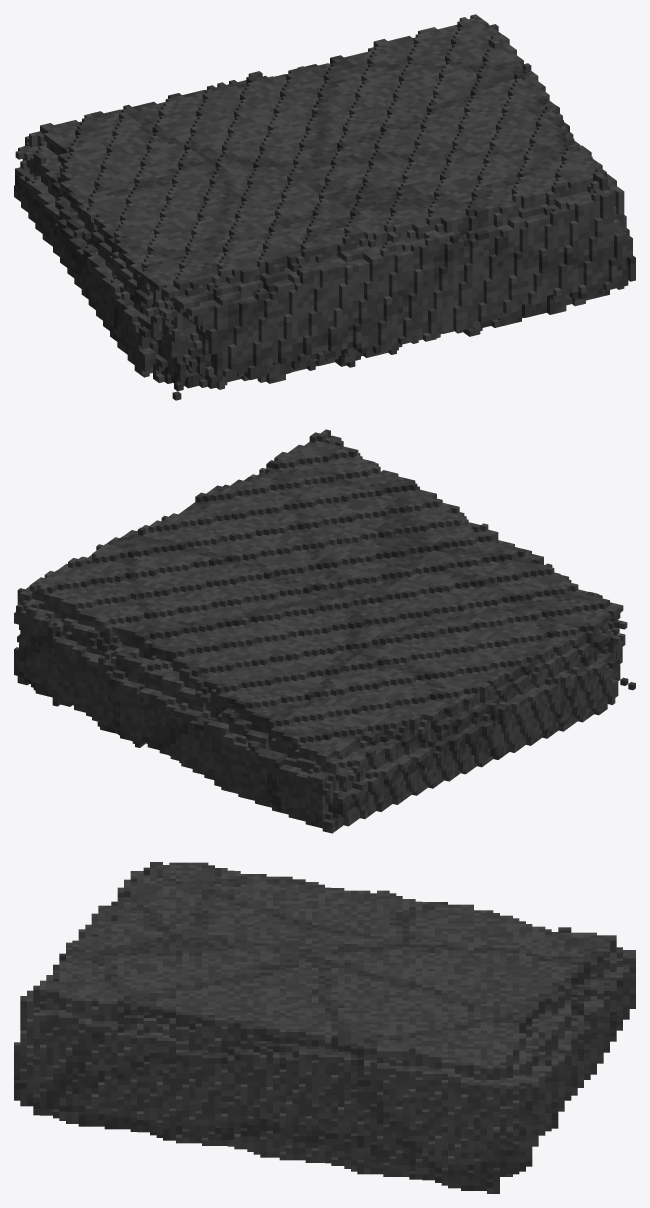
The model's file is Rocas-Gigantes-0.obj.
3 renders of one model, top to bottom at view 1: azimuth 30°, elevation 25°; view 2: azimuth 150°, elevation 25°; view 3: azimuth 270°, elevation 25°, orthographic. The views are drawn at different scales.
Size of the model in its own units: 9.4 by 2.8 by 9.6.
1 material, 1 textured.
